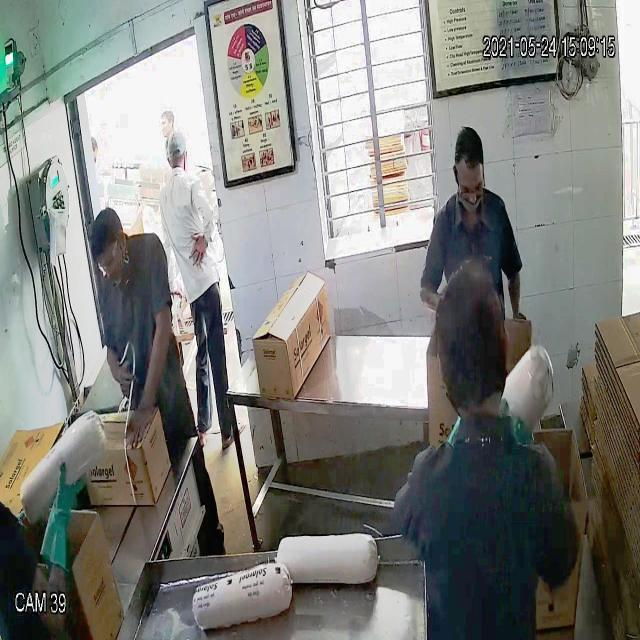glasses: (454, 164, 488, 203)
